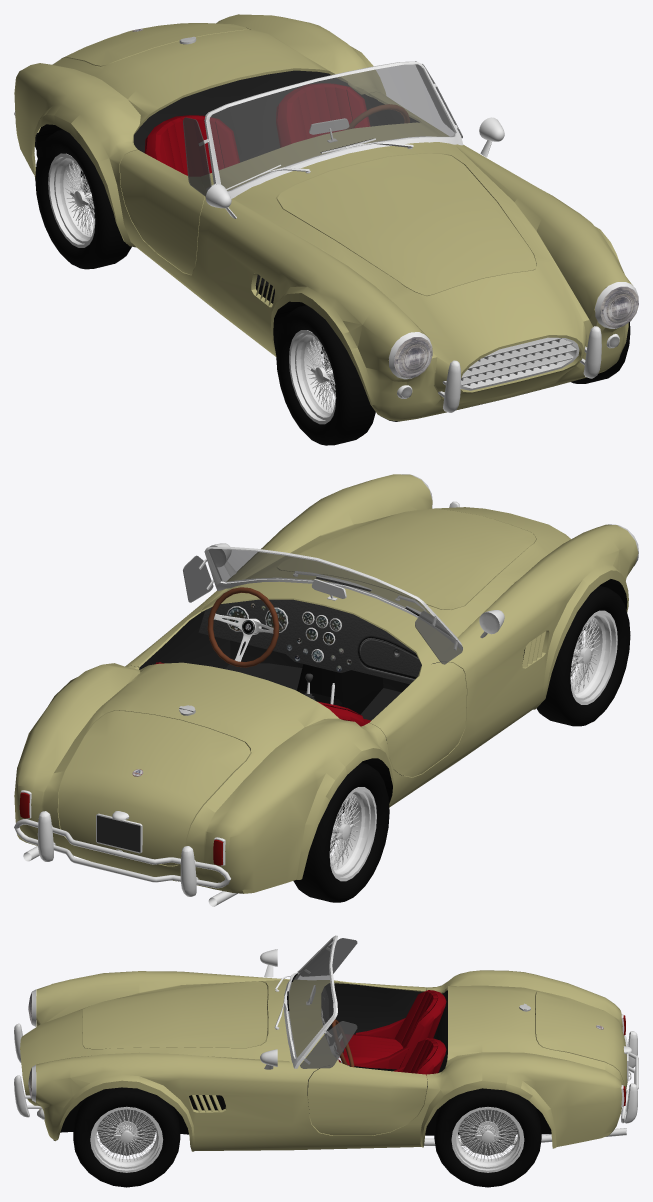
The model's file is ac_cobra_289_mk.2_roadster_1963.glb.
The picture shows the model from 3 angles, top to bottom: view 1: azimuth 30°, elevation 25°; view 2: azimuth 150°, elevation 25°; view 3: azimuth 270°, elevation 25°; orthographic projection. The views are drawn at different scales.
Bounding box in the file's own units: 3.33 × 2.48 × 8.16.
19 materials, 5 textured.
